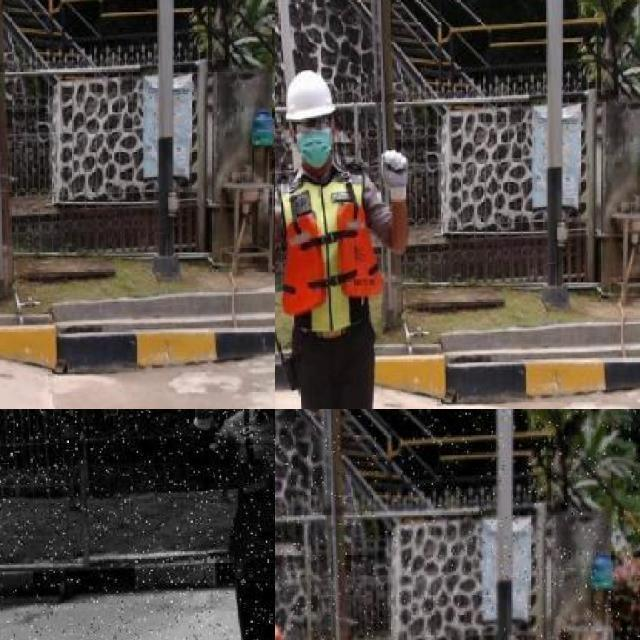apron: (376, 143, 414, 202), (191, 409, 225, 432)
